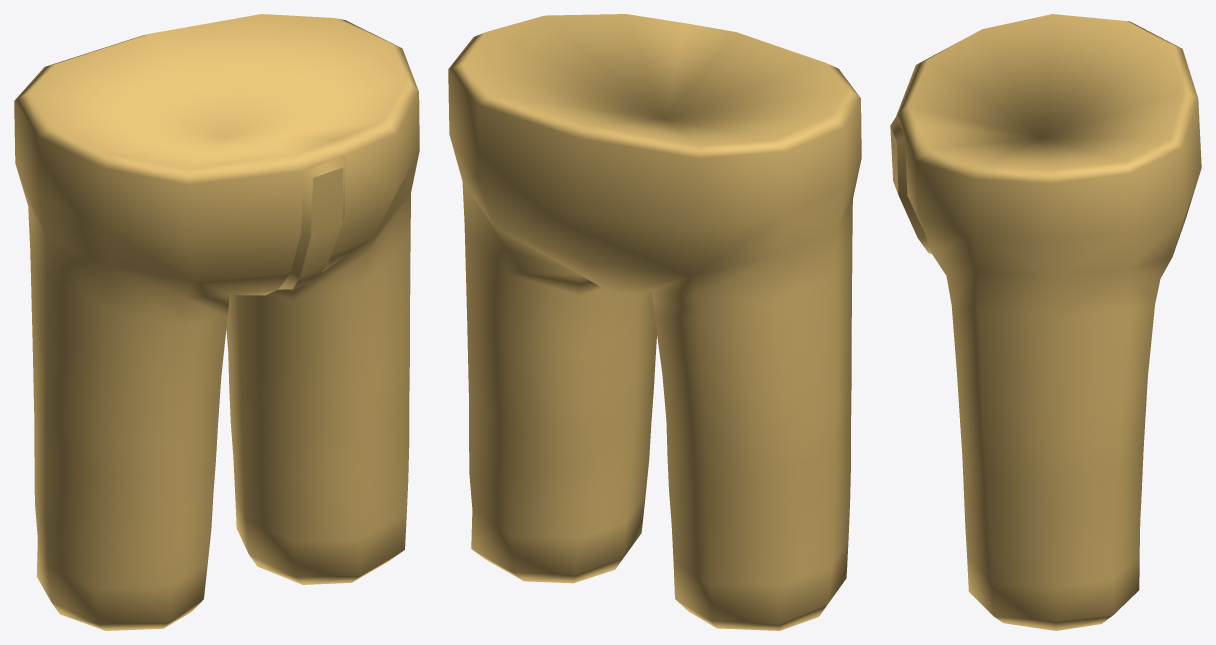
The model's file is Bottom_28.fbx.
3 renders of one model, left to right at view 1: azimuth 30°, elevation 25°; view 2: azimuth 150°, elevation 25°; view 3: azimuth 270°, elevation 25°, orthographic. The views are drawn at different scales.
Visible parts, largest first — view 1: Bottom_28; view 2: Bottom_28; view 3: Bottom_28.
Boxes of the visible parts, left/top/right/bottom form: Bottom_28: left=14, top=14, right=419, bottom=630; Bottom_28: left=448, top=14, right=861, bottom=630; Bottom_28: left=890, top=14, right=1201, bottom=630.
Bounding box in the file's own units: 38.53 × 50.18 × 30.23.
